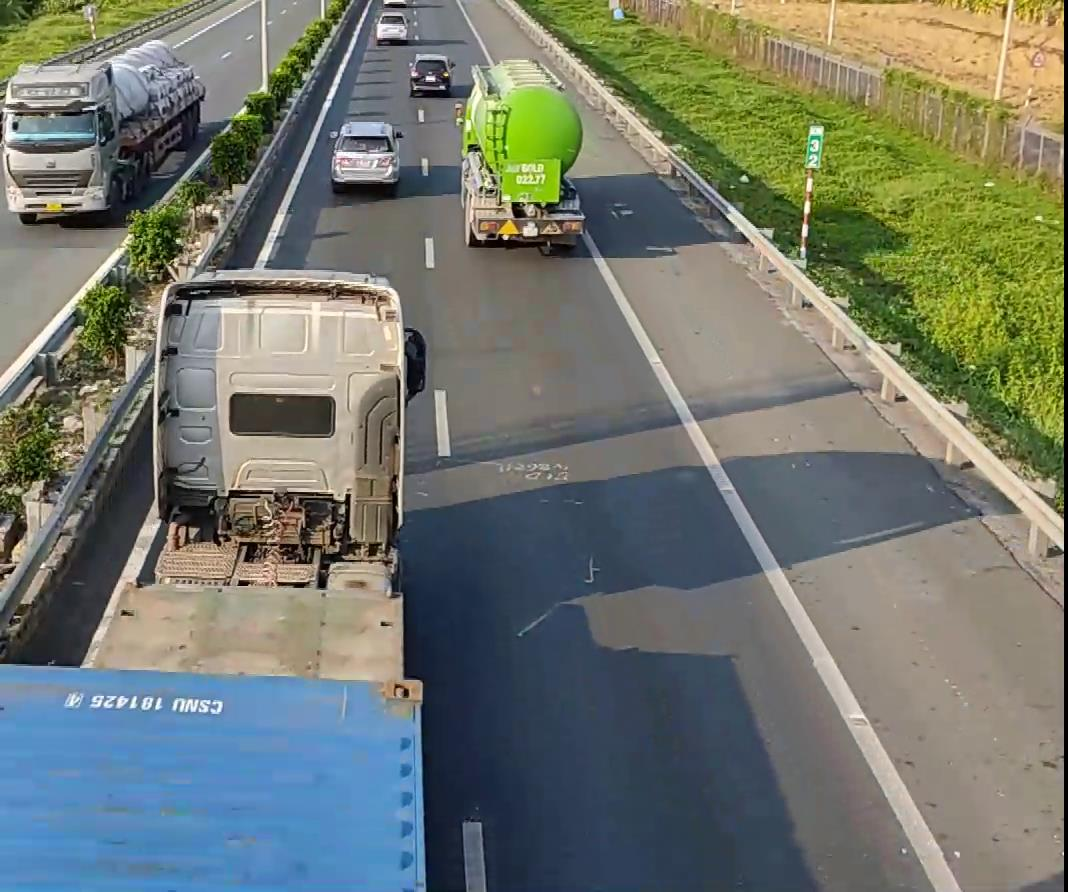car: (328, 115, 401, 192)
container: (2, 266, 429, 888), (0, 43, 206, 223), (457, 57, 584, 251)
